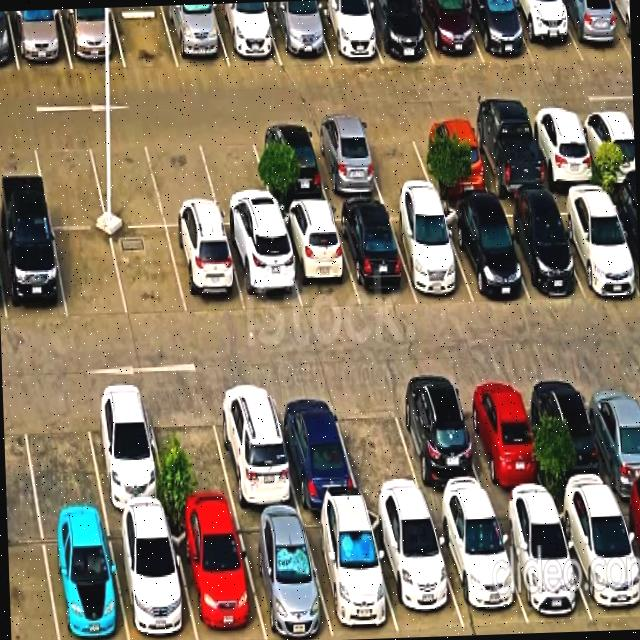empty: (145, 389, 236, 515), (331, 384, 425, 505), (19, 391, 104, 519), (197, 126, 276, 225), (86, 132, 165, 227), (145, 131, 221, 226), (110, 227, 187, 318), (32, 133, 106, 227), (53, 229, 127, 320), (358, 121, 434, 197), (111, 5, 178, 68)
occupied: (301, 509, 399, 640), (390, 380, 490, 506), (234, 514, 333, 640), (429, 504, 528, 628), (492, 502, 592, 624), (169, 514, 265, 640), (455, 376, 549, 502), (367, 509, 464, 631), (209, 383, 299, 512), (554, 496, 640, 628), (107, 516, 196, 640), (527, 374, 615, 499), (270, 387, 360, 508), (82, 390, 169, 515), (40, 518, 127, 640), (551, 192, 639, 295), (493, 200, 583, 299), (440, 203, 529, 303), (277, 207, 359, 311), (386, 204, 473, 302), (332, 205, 416, 305), (580, 373, 640, 495), (166, 226, 245, 315), (223, 225, 302, 312), (466, 115, 548, 196), (0, 225, 66, 322), (251, 125, 329, 206), (307, 123, 383, 201), (413, 119, 491, 194), (525, 111, 600, 188), (509, 0, 583, 65), (361, 0, 433, 64), (556, 0, 631, 61), (211, 2, 281, 67), (311, 0, 382, 63), (576, 109, 635, 184), (415, 0, 483, 65), (464, 0, 533, 63), (162, 4, 229, 68), (265, 1, 331, 65), (59, 7, 125, 69), (8, 9, 71, 71), (606, 191, 639, 283), (615, 494, 640, 573), (606, 0, 631, 57)
